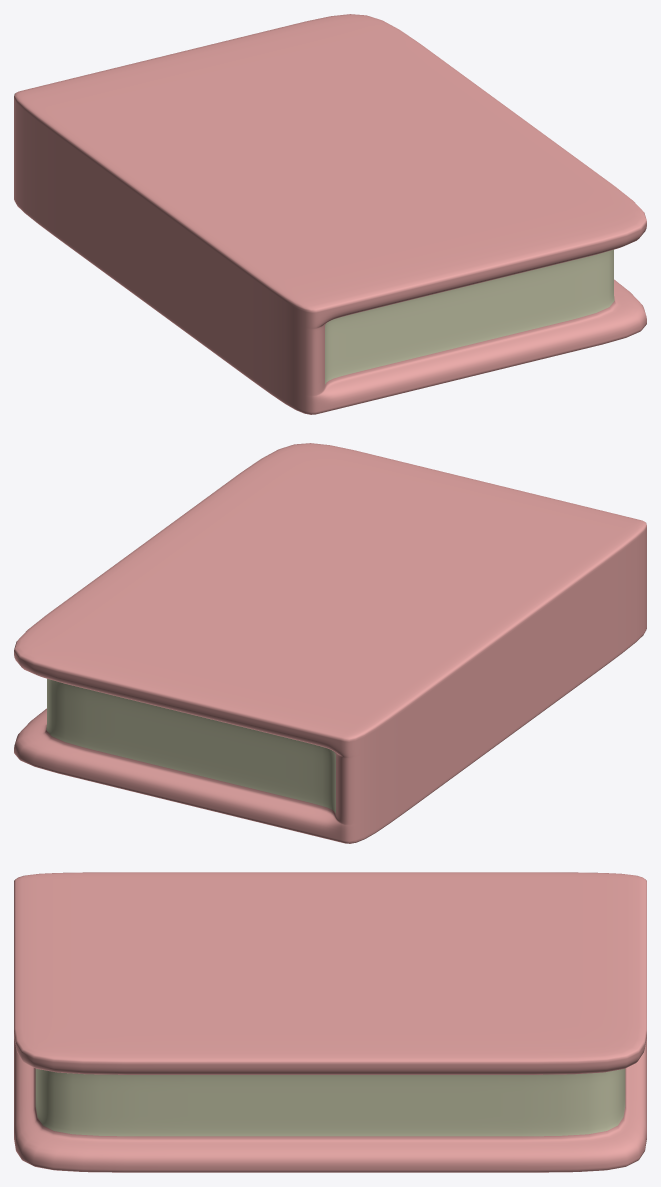
File: Book.fbx
3 views of the same model, one above another, from view 1: azimuth 30°, elevation 25°; view 2: azimuth 150°, elevation 25°; view 3: azimuth 270°, elevation 25° (orthographic). The views are drawn at different scales.
Visible parts, largest first — view 1: Book; view 2: Book; view 3: Book.
Boxes of the visible parts, box(x1,y1,x2,y2) form: Book: box(14, 14, 646, 414); Book: box(14, 443, 646, 843); Book: box(14, 872, 646, 1172).
Size of the model in its own units: 2.9 by 0.8369 by 4.11.
